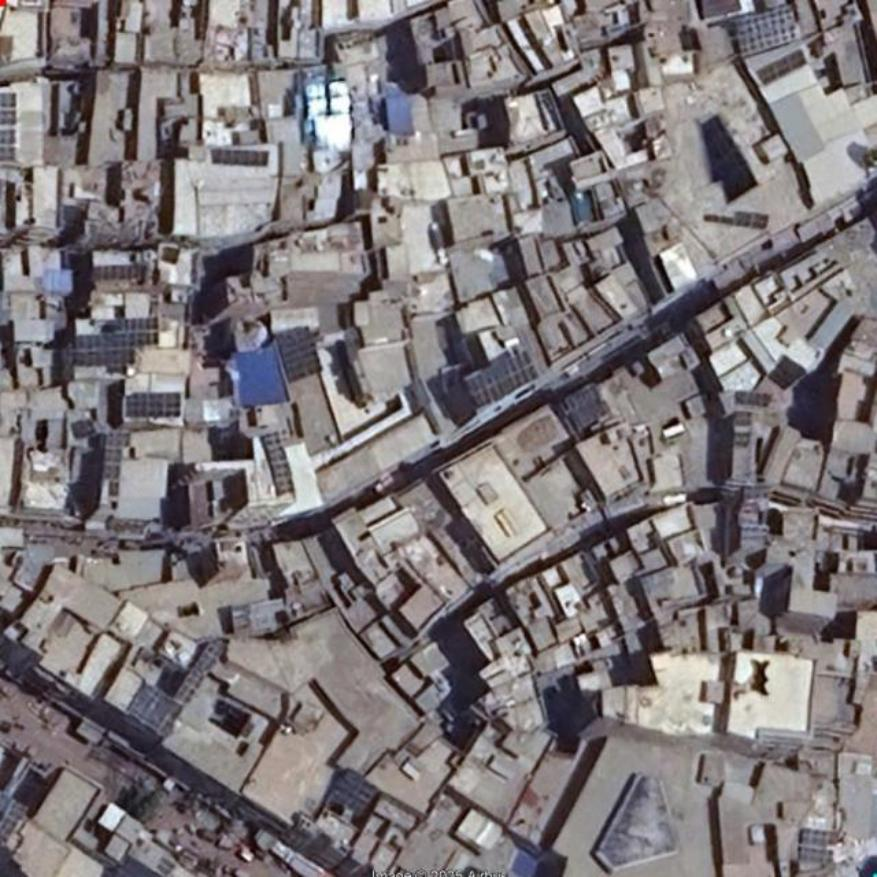Solarpanel: (74, 316, 159, 368), (464, 354, 537, 409), (733, 4, 800, 54), (178, 639, 226, 706), (128, 686, 184, 736), (277, 328, 321, 381), (261, 432, 297, 496), (331, 771, 379, 816), (0, 791, 29, 845), (761, 50, 809, 82), (100, 433, 130, 478), (127, 393, 178, 415), (797, 831, 831, 863), (0, 93, 15, 160), (211, 148, 270, 165)
